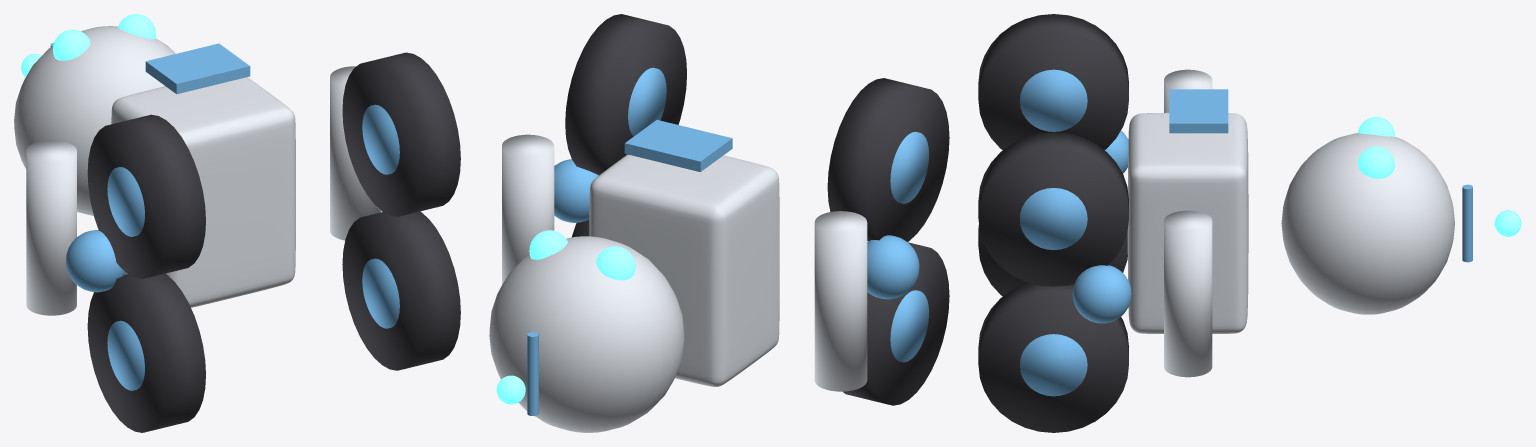
The model's file is robot2.glb.
The picture shows the model from 3 angles, left to right: view 1: azimuth 30°, elevation 25°; view 2: azimuth 150°, elevation 25°; view 3: azimuth 270°, elevation 25°; orthographic projection. The views are drawn at different scales.
Visible parts, largest first — view 1: Body, Wheel_FR, Wheel_FL, Wheel_BR, Wheel_BL, Head, Arm_L, Arm_R, ChestPanel, Hand_L, Eye_L, Eye_R; view 2: Body, Head, Wheel_FL, Wheel_FR, Arm_L, Wheel_BL, Arm_R, ChestPanel, Hand_L, Hand_R, Eye_L, Antenna (+2 smaller); view 3: Head, Body, Wheel_FR, Wheel_BR, Wheel_FL, Arm_R, Hand_R, ChestPanel, Wheel_BL, Arm_L, Eye_R, Antenna (+3 smaller).
Part boxes in pixels (x1,y1,x2,y2): Body: (111,77,295,307); Wheel_FR: (342,52,460,216); Wheel_FL: (87,114,205,278); Wheel_BR: (342,211,460,370); Wheel_BL: (87,273,205,432); Head: (14,26,175,215); Arm_L: (26,140,76,315); Arm_R: (330,66,380,240); ChestPanel: (145,43,250,94); Hand_L: (66,230,125,292); Eye_L: (53,29,90,60); Eye_R: (118,14,155,39); Body: (589,154,779,386); Head: (489,236,684,432); Wheel_FL: (827,78,949,241); Wheel_FR: (565,14,686,175); Arm_L: (814,211,867,391); Wheel_BL: (843,242,949,405); Arm_R: (502,134,554,284); ChestPanel: (624,120,732,171); Hand_L: (867,235,919,299); Hand_R: (554,159,598,222); Eye_L: (596,246,635,280); Antenna: (527,332,538,415); Head: (1281,133,1454,314); Body: (1127,112,1248,333); Wheel_FR: (978,132,1128,286); Wheel_BR: (978,282,1128,432); Wheel_FL: (978,14,1128,150); Arm_R: (1164,210,1212,377); Hand_R: (1072,265,1131,323); ChestPanel: (1169,89,1228,133); Wheel_BL: (978,225,1127,296); Arm_L: (1164,69,1212,112); Eye_R: (1357,146,1394,178); Antenna: (1462,184,1472,262).
Bounding box in the file's own units: 1.46 × 1.16 × 2.02.
